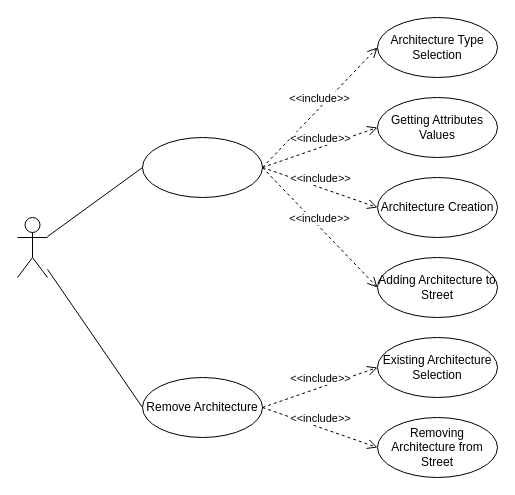
This 515x495 diagram has some shape labels left out. Here are the shapes that lost their labels. From the top down, the centre of each, then its label:
pixel 202 167: Add Architecture
pixel 32 247: User
